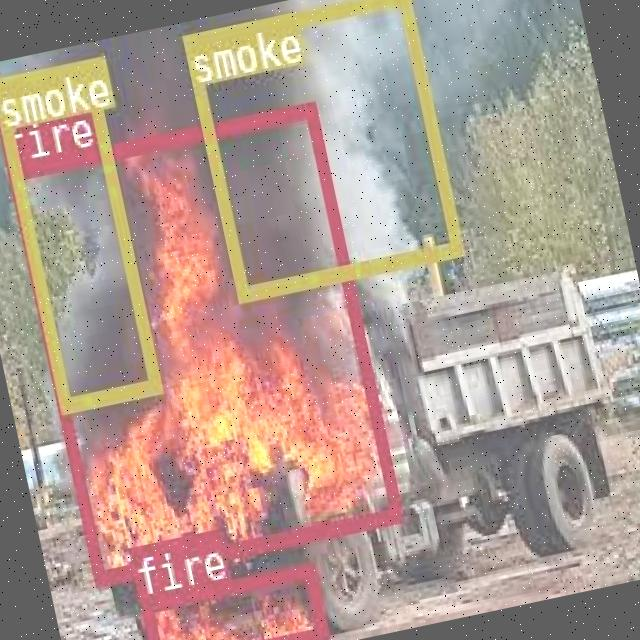fire: (5, 99, 401, 584), (135, 559, 326, 640)
smoke: (179, 0, 459, 298), (0, 55, 159, 411)
